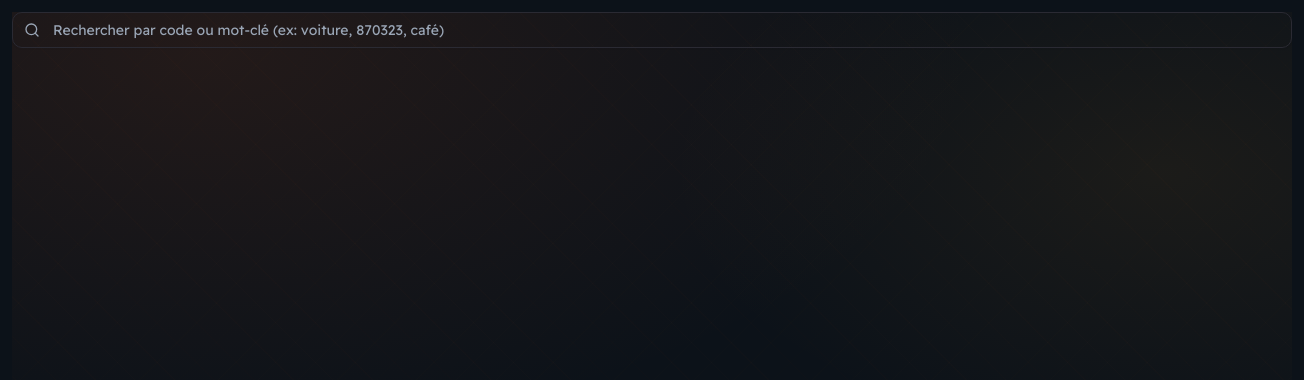
Test: SmartHSSearch › sans pays de destination, n'interroge rien et le dit
The width and height of the screenshot is (1304, 380).
Type "café" into the field with test id "hs-search-input" at (652, 30), box [12,12,1292,48]
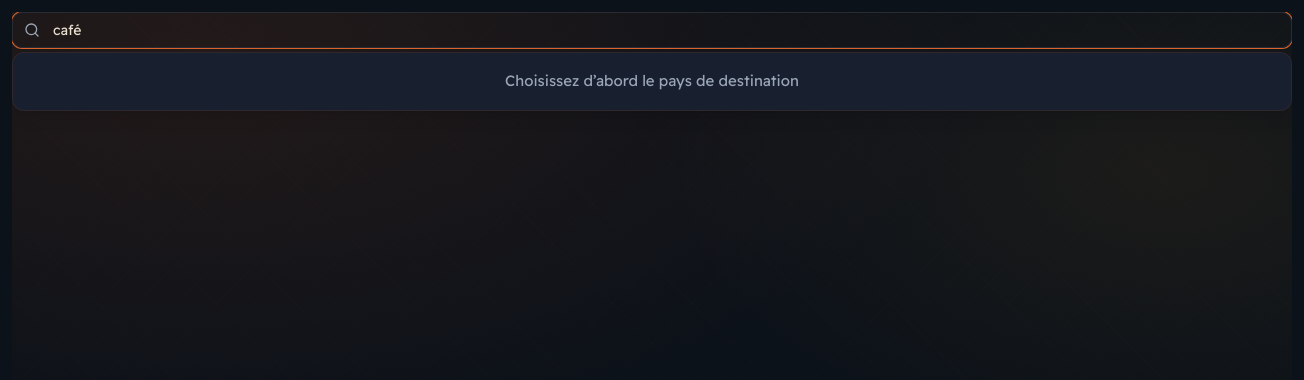
expect the text "Choisissez d’abord le pays de destination" is shown: met, box [12,52,1292,111]
